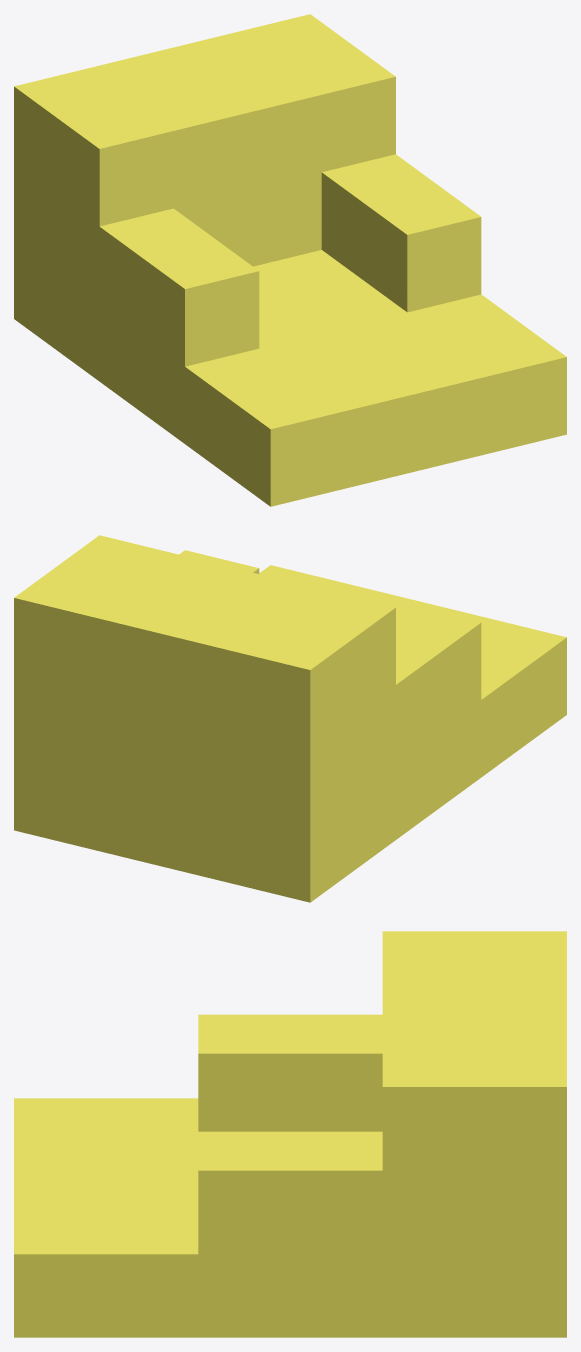
3 views of the same model, one above another, from view 1: azimuth 30°, elevation 25°; view 2: azimuth 150°, elevation 25°; view 3: azimuth 270°, elevation 25° (orthographic). The views are drawn at different scales.
Parts seen in each view (by area): view 1: 917; view 2: 917; view 3: 917.
Part boxes in pixels (left/top/right/bottom): 917: left=14, top=14, right=566, bottom=506; 917: left=14, top=535, right=566, bottom=902; 917: left=14, top=931, right=566, bottom=1337.
Size of the model in its own units: 0.04 by 0.03 by 0.06.
